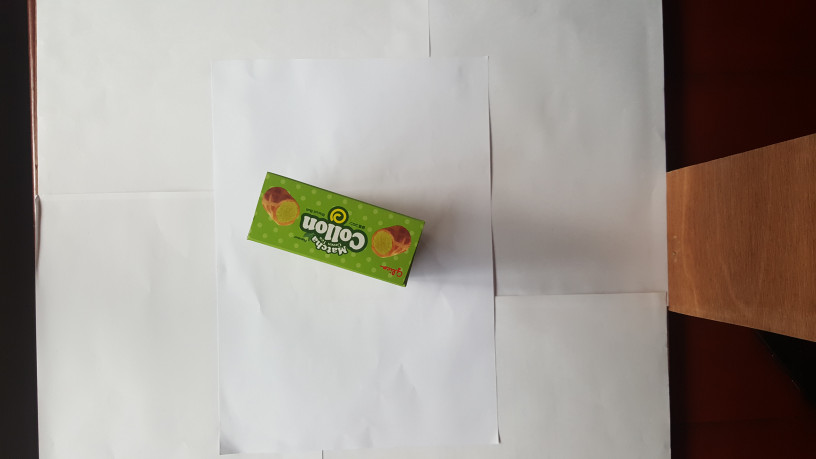collon-matcha: (246, 171, 426, 286)
